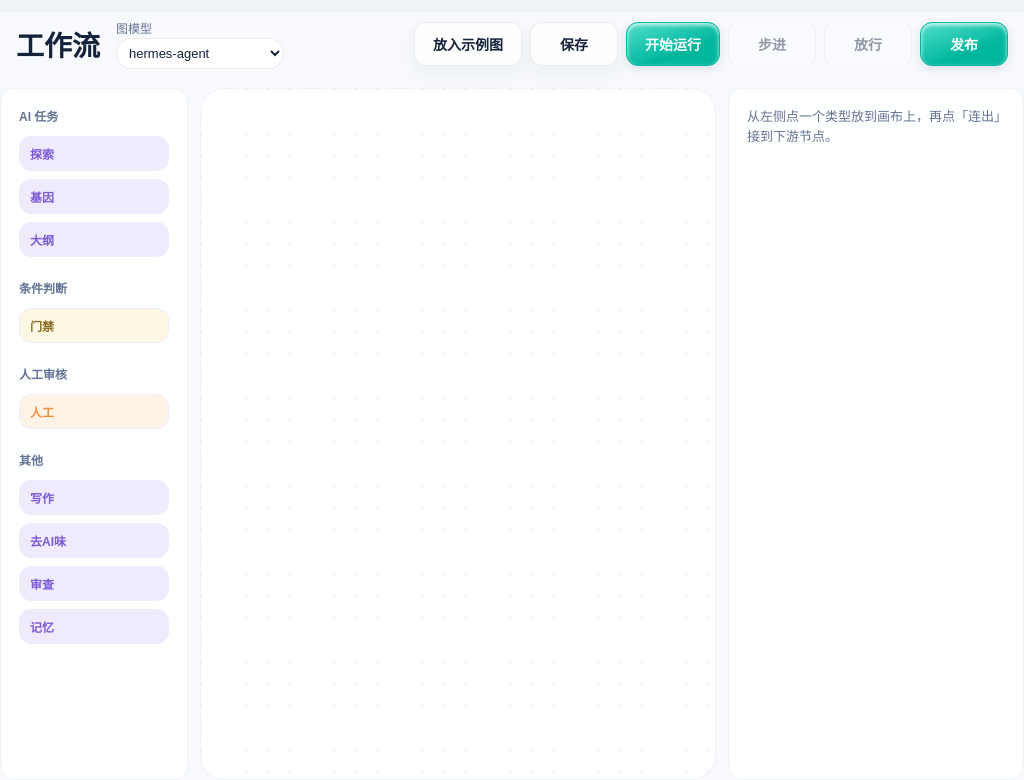
WorkflowCanvasPage › reports that publishing is not available in the demo
Click the button "发布": [964, 44] box x1=920 y1=22 x2=1008 y2=66
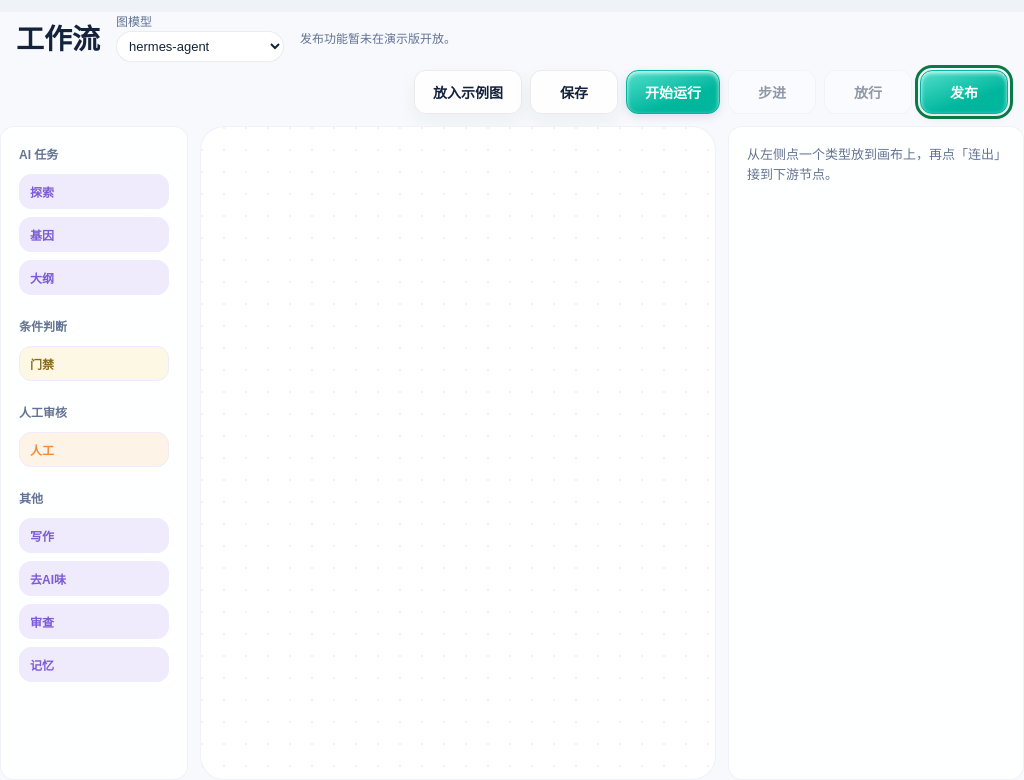
Result: the text "发布功能暂未在演示版开放。" is shown at x1=300 y1=28 x2=456 y2=46
